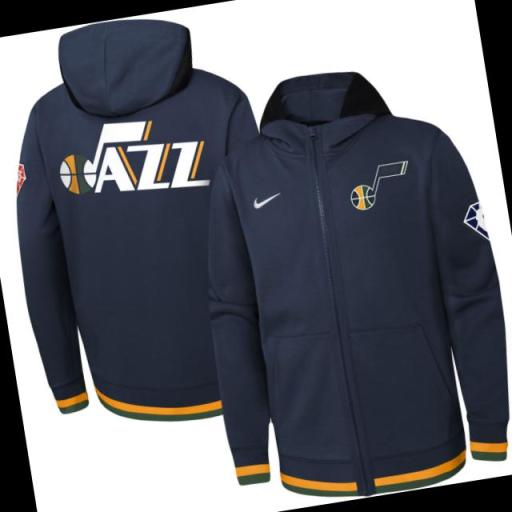Nike: (250, 190, 284, 212)
